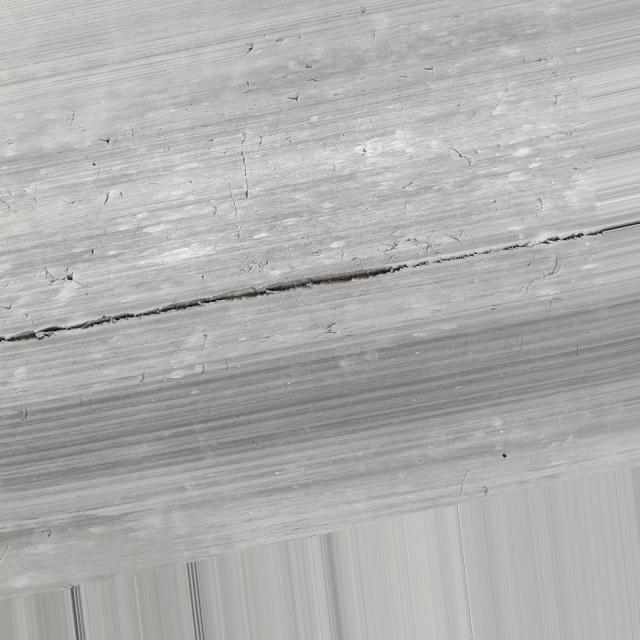Puncture: (66, 273, 74, 280)
Tear: (2, 230, 600, 342)
